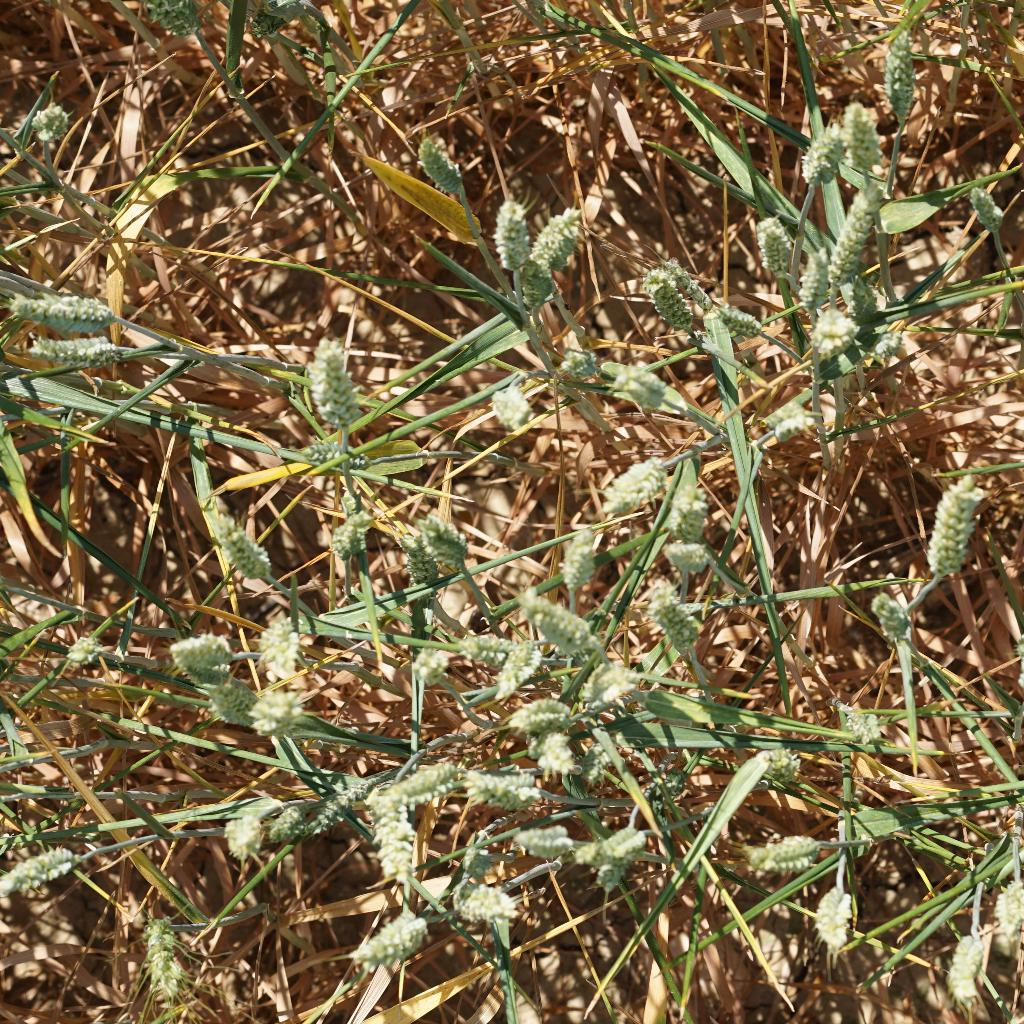0-0: (288, 329, 376, 437), (915, 464, 998, 578), (811, 180, 894, 292), (0, 288, 144, 336), (585, 448, 671, 524), (204, 508, 287, 586), (135, 905, 198, 1006), (361, 791, 428, 884), (509, 589, 598, 656), (357, 907, 451, 968), (798, 873, 863, 959), (832, 96, 889, 191), (18, 332, 150, 373), (737, 823, 832, 879), (561, 647, 646, 709), (595, 354, 684, 413), (635, 584, 712, 651), (372, 747, 466, 800), (417, 512, 485, 585), (444, 873, 519, 938), (877, 23, 922, 129), (413, 139, 485, 205), (0, 844, 103, 889), (522, 208, 595, 271), (245, 619, 317, 681), (112, 0, 217, 41), (590, 817, 645, 894), (791, 115, 848, 189), (948, 915, 989, 1016), (484, 193, 535, 271), (168, 630, 251, 677), (496, 686, 574, 735), (635, 271, 702, 328), (821, 692, 889, 748), (653, 252, 715, 313), (806, 301, 865, 365), (485, 384, 550, 441), (986, 869, 1024, 965), (792, 247, 832, 332), (550, 524, 600, 590), (740, 740, 804, 791), (484, 636, 544, 690), (533, 720, 585, 781), (250, 690, 313, 740), (661, 489, 722, 539), (557, 344, 619, 393), (467, 766, 531, 813), (660, 534, 717, 585), (574, 737, 627, 791), (509, 819, 580, 859), (770, 393, 819, 450), (305, 434, 376, 473), (306, 785, 359, 837), (219, 805, 272, 857), (757, 212, 795, 284), (452, 636, 529, 671), (399, 635, 448, 690), (325, 514, 382, 561), (198, 676, 256, 721), (596, 823, 662, 862), (511, 260, 563, 309), (573, 834, 652, 866), (404, 539, 449, 595), (965, 179, 1006, 240), (706, 302, 771, 340), (25, 101, 74, 149), (871, 585, 916, 636), (266, 799, 309, 848), (842, 275, 883, 326), (62, 634, 107, 665), (866, 328, 907, 358), (656, 763, 688, 800), (463, 841, 492, 878), (244, 12, 280, 41)
